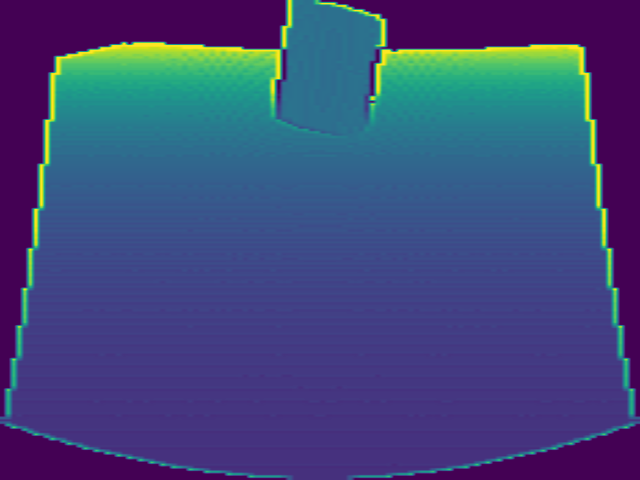cylinder: (268, 1, 388, 138)
